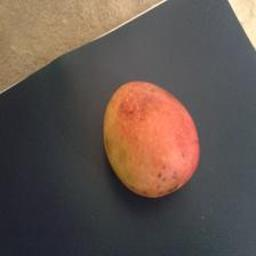Mango Semifresh: (98, 70, 205, 202)
